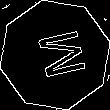M_W: (25, 27, 85, 83)
